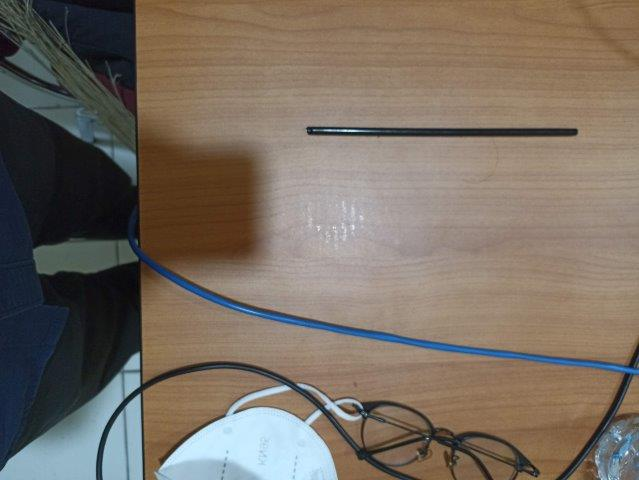sedotan: (307, 127, 578, 137)
